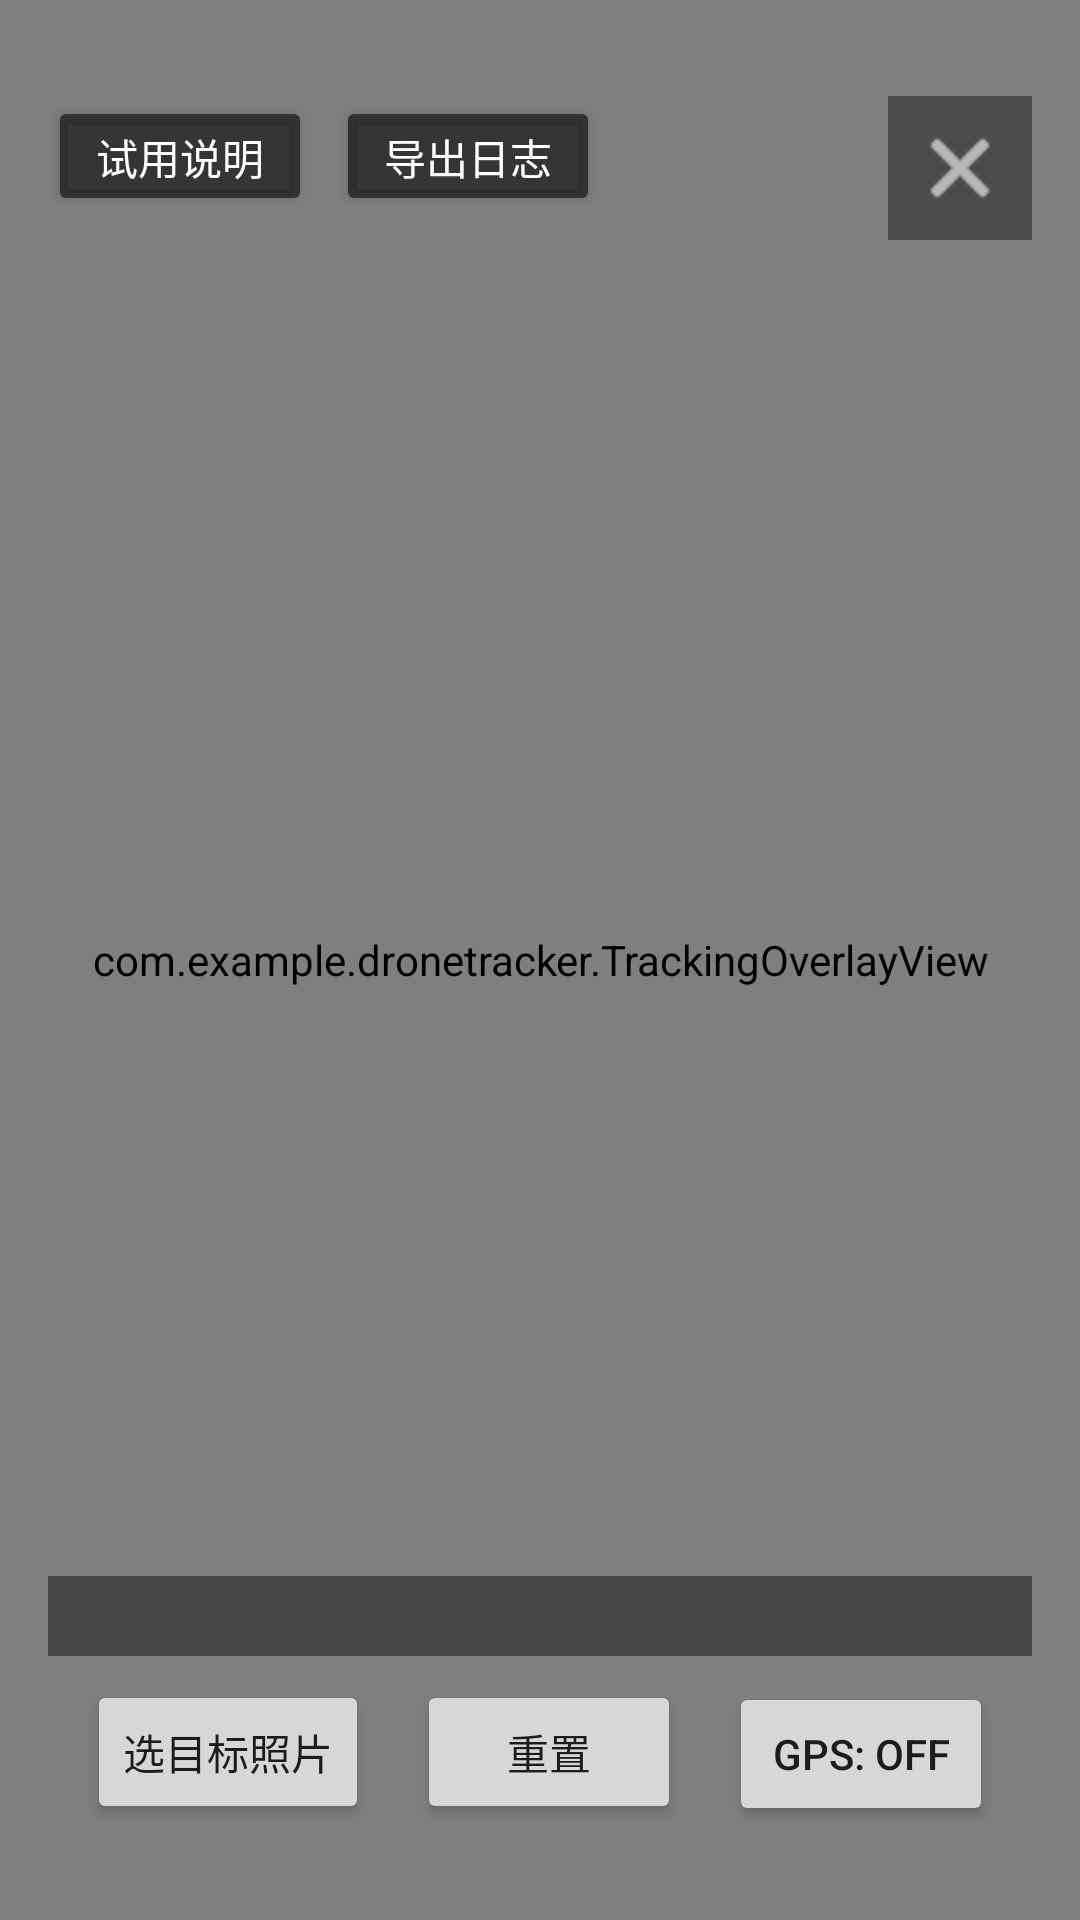

Point at icon controls on the screen. Image size 1080w x 1920h, points as (x=x, y=y).
close clear cancel: (x=960, y=168)
